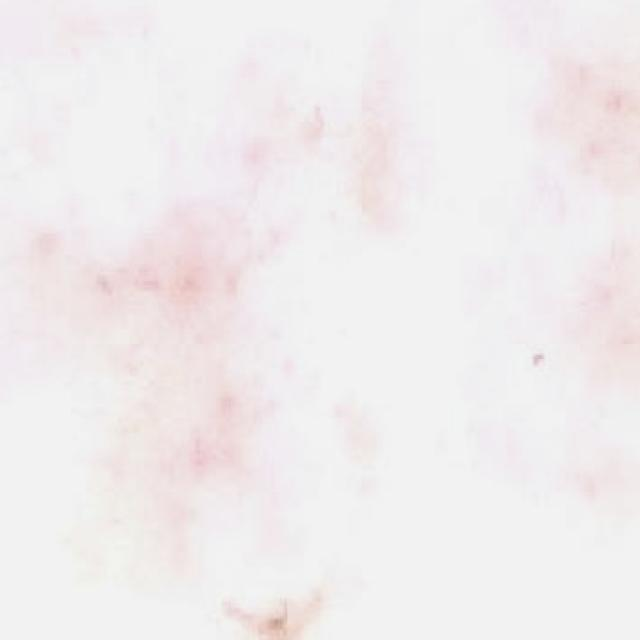BCC: (14, 37, 640, 540)
